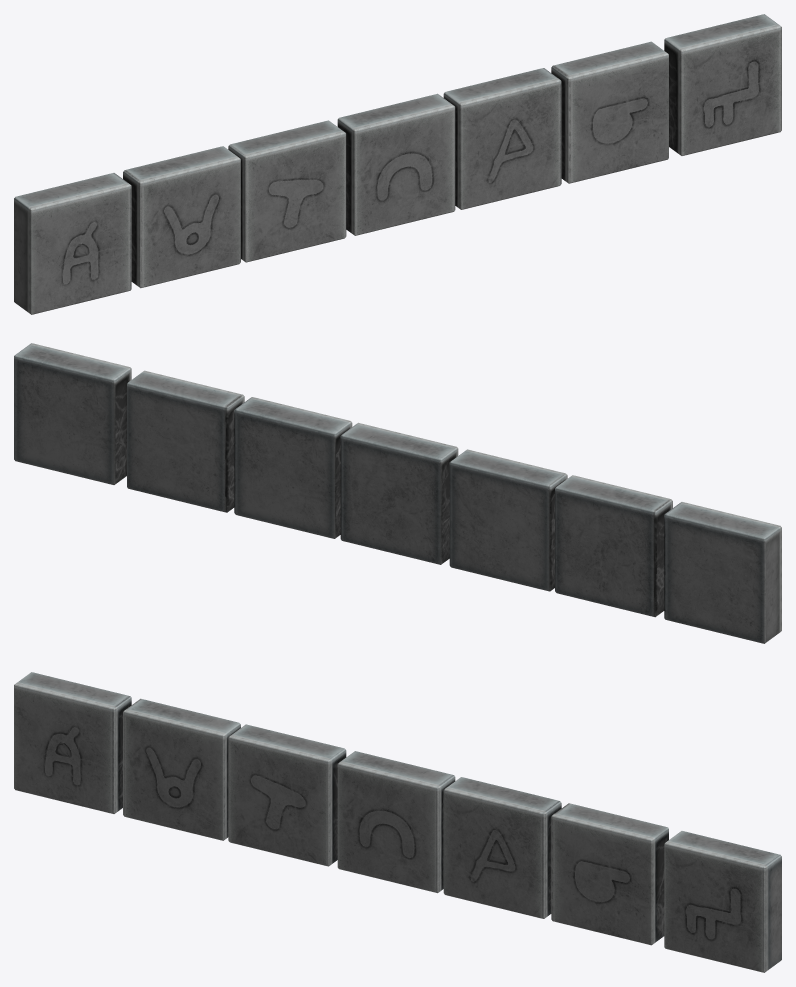
Rendered from stonepuzzle_packB.fbx.
3 views of the same model, one above another, from view 1: azimuth 30°, elevation 25°; view 2: azimuth 150°, elevation 25°; view 3: azimuth 330°, elevation 25° (orthographic).
Visible parts, largest first — view 1: stonepuzzlepack_1_8, stonepuzzlepack_1_14, stonepuzzlepack_1_11, stonepuzzlepack_1_9, stonepuzzlepack_1_13, stonepuzzlepack_1_12, stonepuzzlepack_1_10; view 2: stonepuzzlepack_1_8, stonepuzzlepack_1_14, stonepuzzlepack_1_11, stonepuzzlepack_1_9, stonepuzzlepack_1_13, stonepuzzlepack_1_12, stonepuzzlepack_1_10; view 3: stonepuzzlepack_1_14, stonepuzzlepack_1_13, stonepuzzlepack_1_10, stonepuzzlepack_1_8, stonepuzzlepack_1_12, stonepuzzlepack_1_11, stonepuzzlepack_1_9.
Boxes of the visible parts, x1,y1,x2,y2 form: stonepuzzlepack_1_8: (14, 173, 131, 314); stonepuzzlepack_1_14: (664, 14, 781, 155); stonepuzzlepack_1_11: (337, 93, 455, 235); stonepuzzlepack_1_9: (123, 146, 240, 288); stonepuzzlepack_1_13: (551, 41, 668, 183); stonepuzzlepack_1_12: (443, 68, 561, 209); stonepuzzlepack_1_10: (228, 120, 346, 262); stonepuzzlepack_1_8: (664, 502, 781, 643); stonepuzzlepack_1_14: (14, 343, 131, 484); stonepuzzlepack_1_11: (340, 422, 458, 564); stonepuzzlepack_1_9: (555, 475, 672, 617); stonepuzzlepack_1_13: (127, 370, 244, 512); stonepuzzlepack_1_12: (234, 397, 352, 538); stonepuzzlepack_1_10: (449, 449, 567, 591); stonepuzzlepack_1_14: (664, 831, 781, 972); stonepuzzlepack_1_13: (551, 803, 668, 945); stonepuzzlepack_1_10: (228, 724, 346, 866); stonepuzzlepack_1_8: (14, 672, 131, 813); stonepuzzlepack_1_12: (443, 777, 561, 918); stonepuzzlepack_1_11: (337, 751, 455, 893); stonepuzzlepack_1_9: (123, 698, 240, 840).
Bounding box in the file's own units: 15.1 × 2.04 × 0.6196.
Materials: 1 (1 with a texture image).
